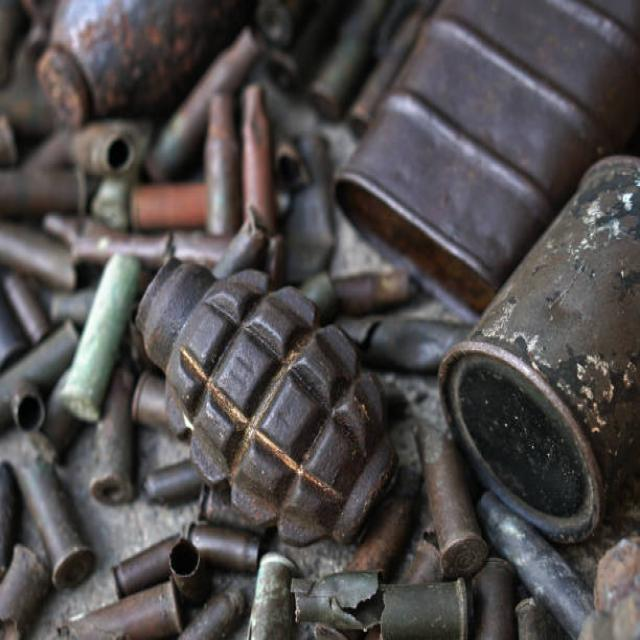grenade: (138, 249, 404, 552)
